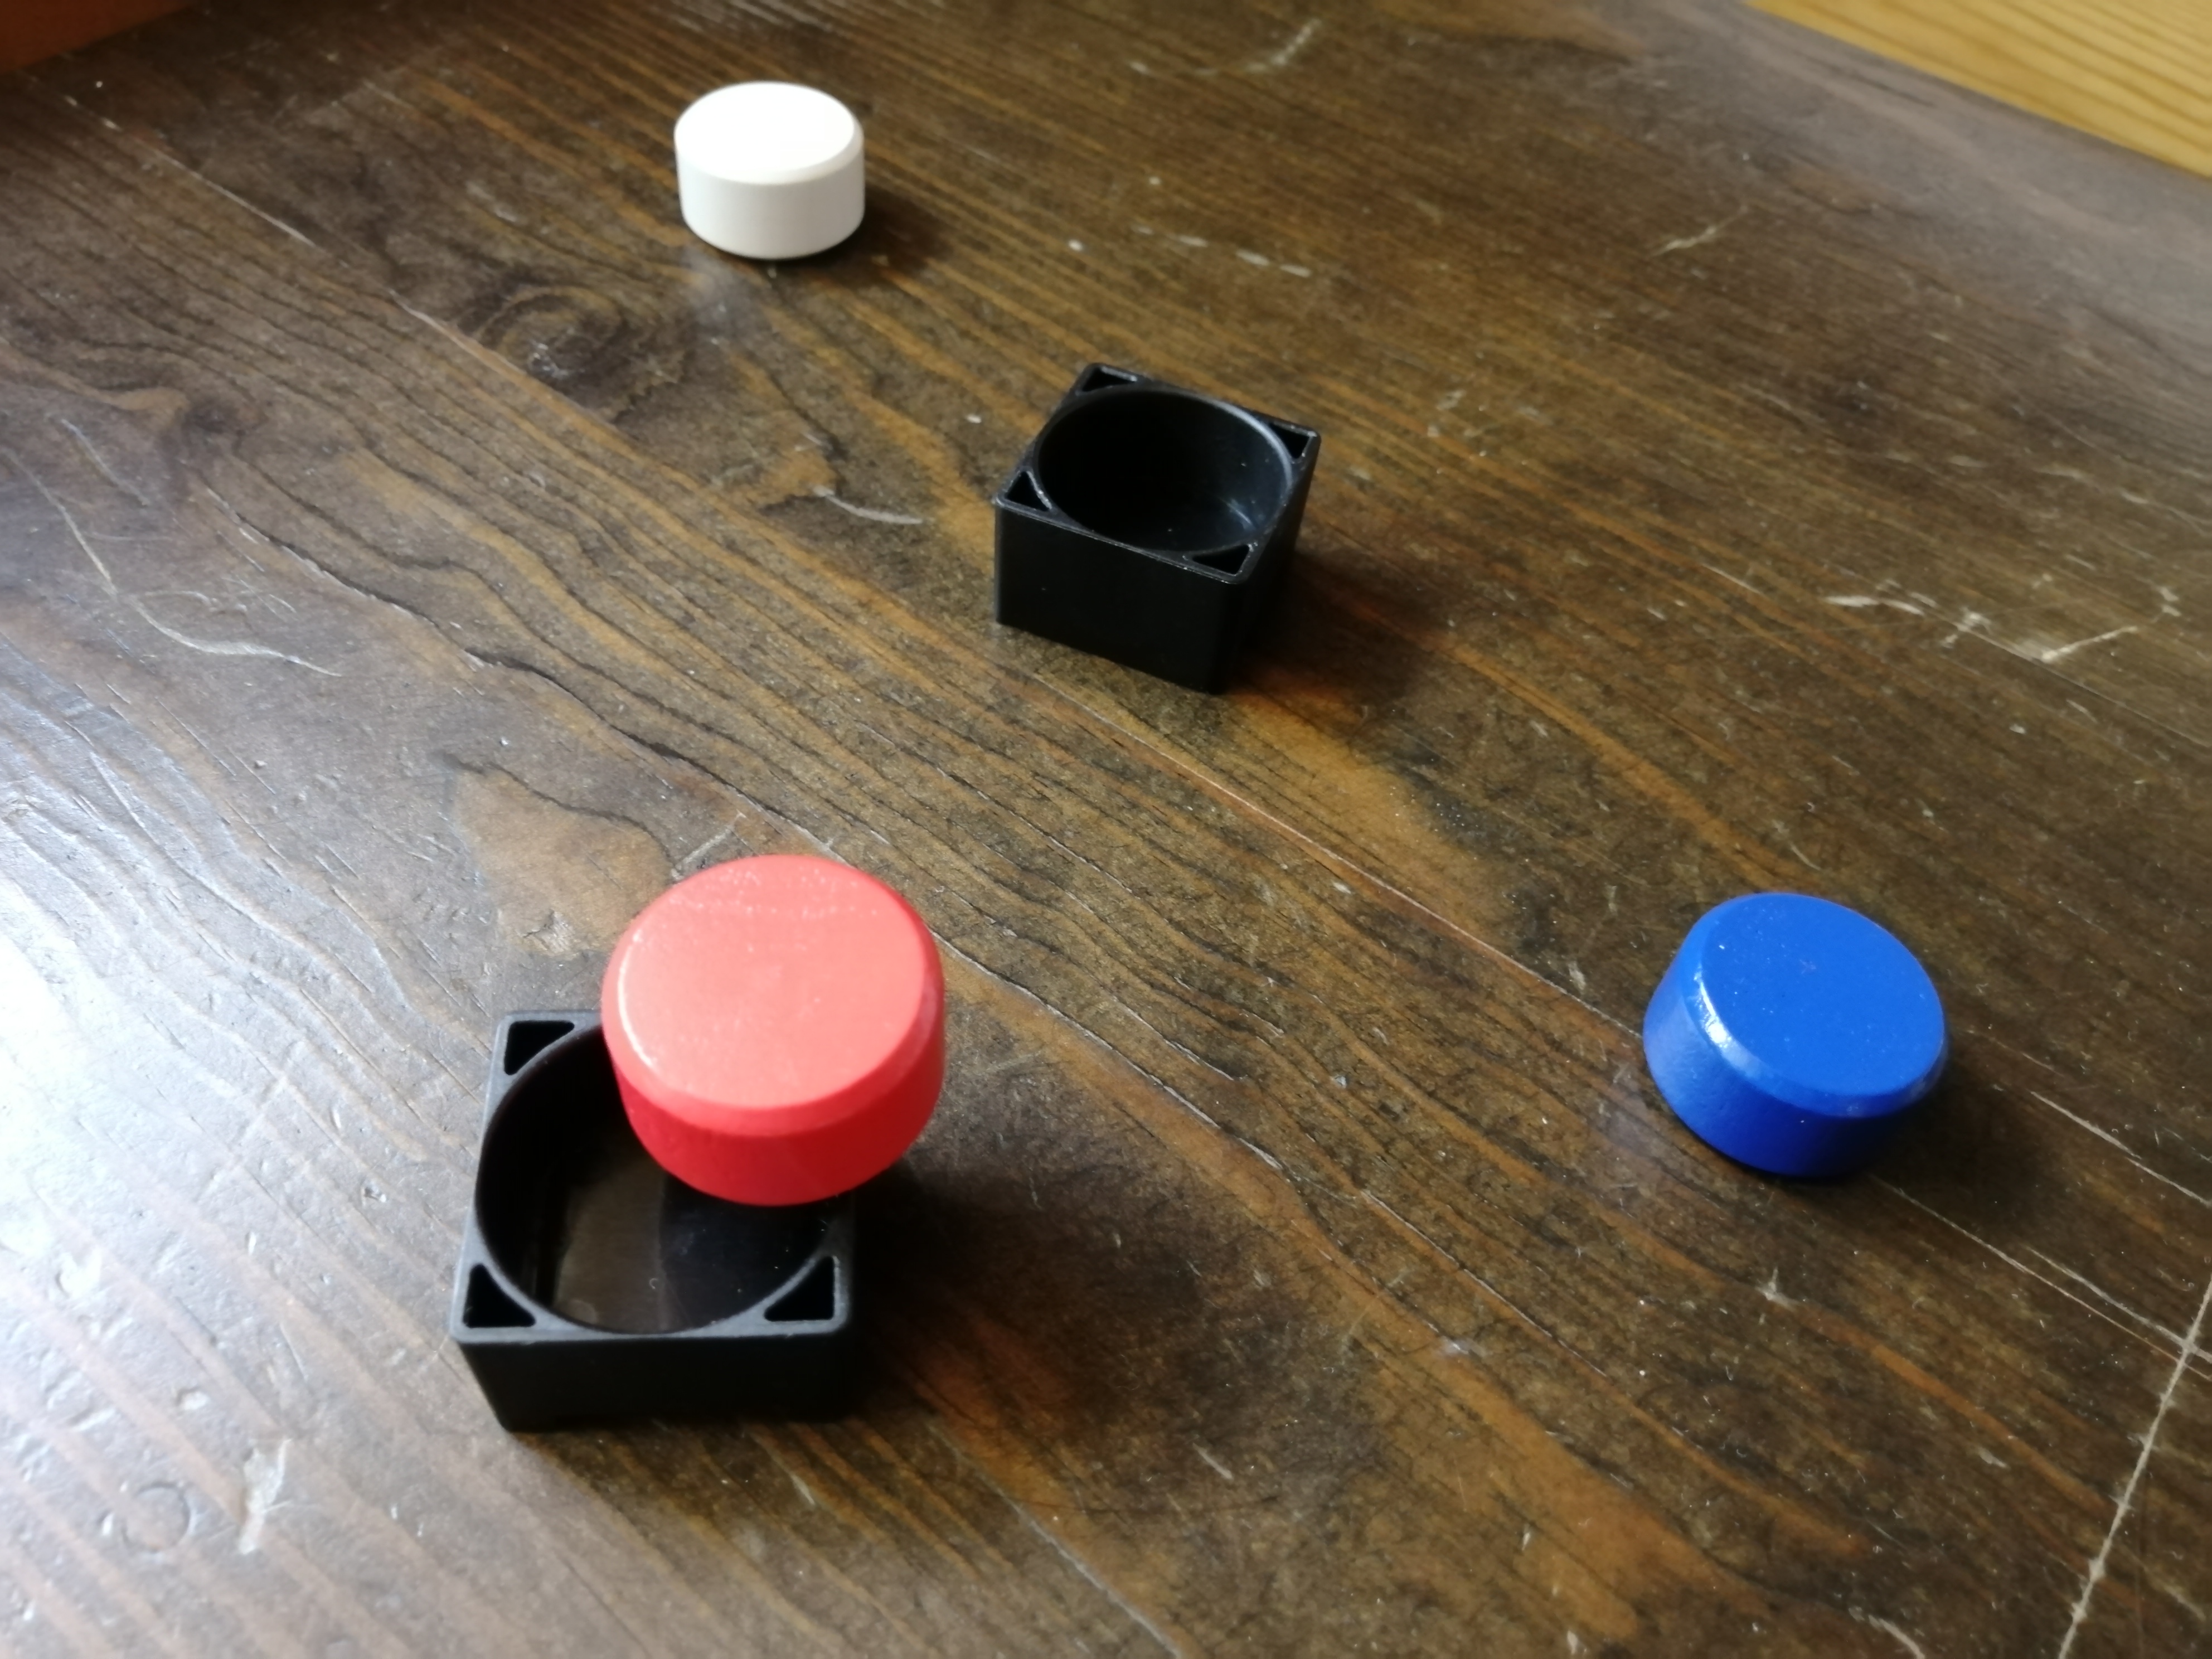Behaelter: (451, 1009, 876, 1422), (988, 361, 1320, 687)
WerkStueck: (599, 854, 941, 1195), (1637, 890, 1952, 1178), (669, 85, 874, 254)
